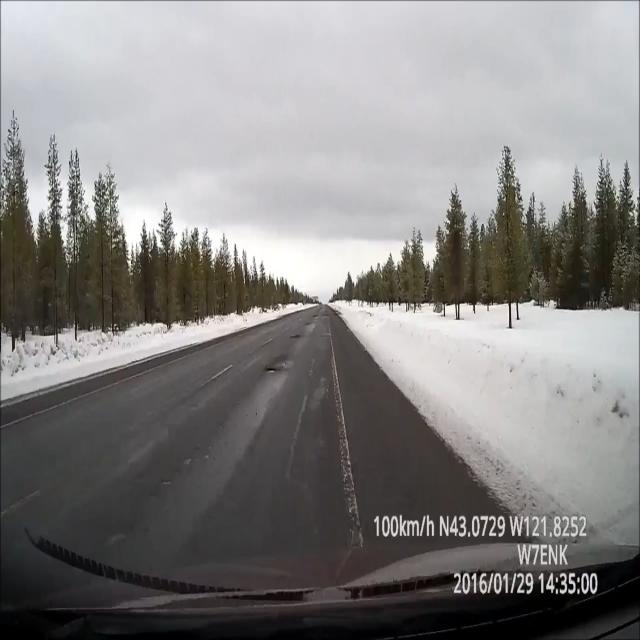Pothole: (262, 356, 296, 382), (288, 325, 310, 341)
